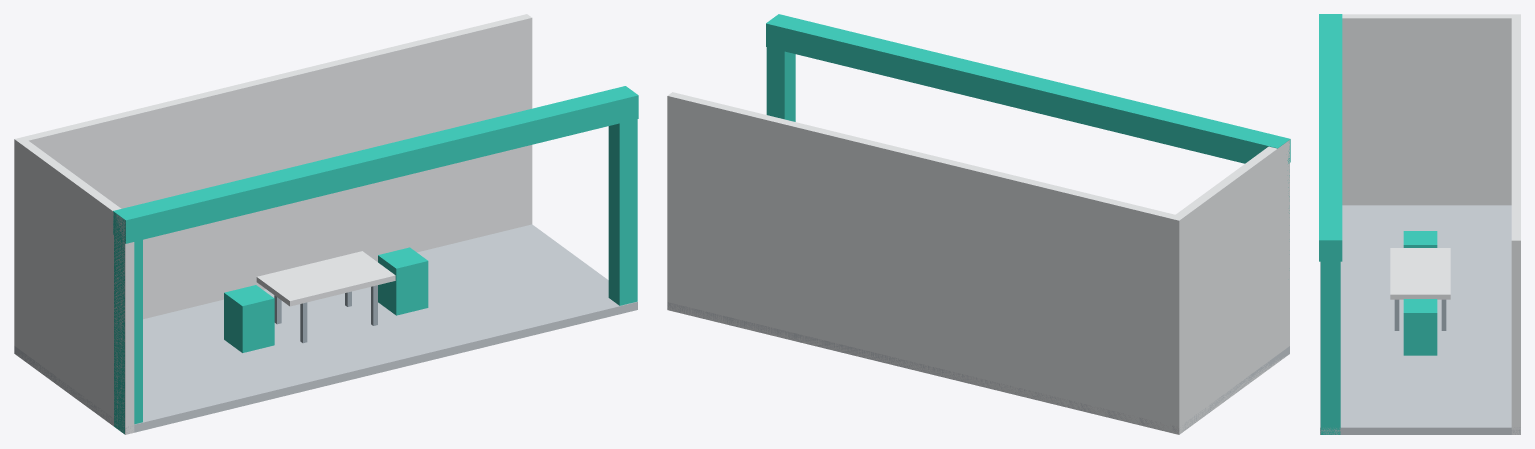
3 renders of one model, left to right at view 1: azimuth 30°, elevation 25°; view 2: azimuth 150°, elevation 25°; view 3: azimuth 270°, elevation 25°, orthographic. The views are drawn at different scales.
Parts seen in each view (by area): view 1: Exhibition Booth Concept; view 2: Exhibition Booth Concept; view 3: Exhibition Booth Concept.
Boxes of the visible parts, box(x1,y1,x2,y2) form: Exhibition Booth Concept: box(14, 14, 638, 434); Exhibition Booth Concept: box(667, 14, 1290, 434); Exhibition Booth Concept: box(1319, 14, 1520, 434).
Size of the model in its own units: 8 by 3.2 by 3.01.
